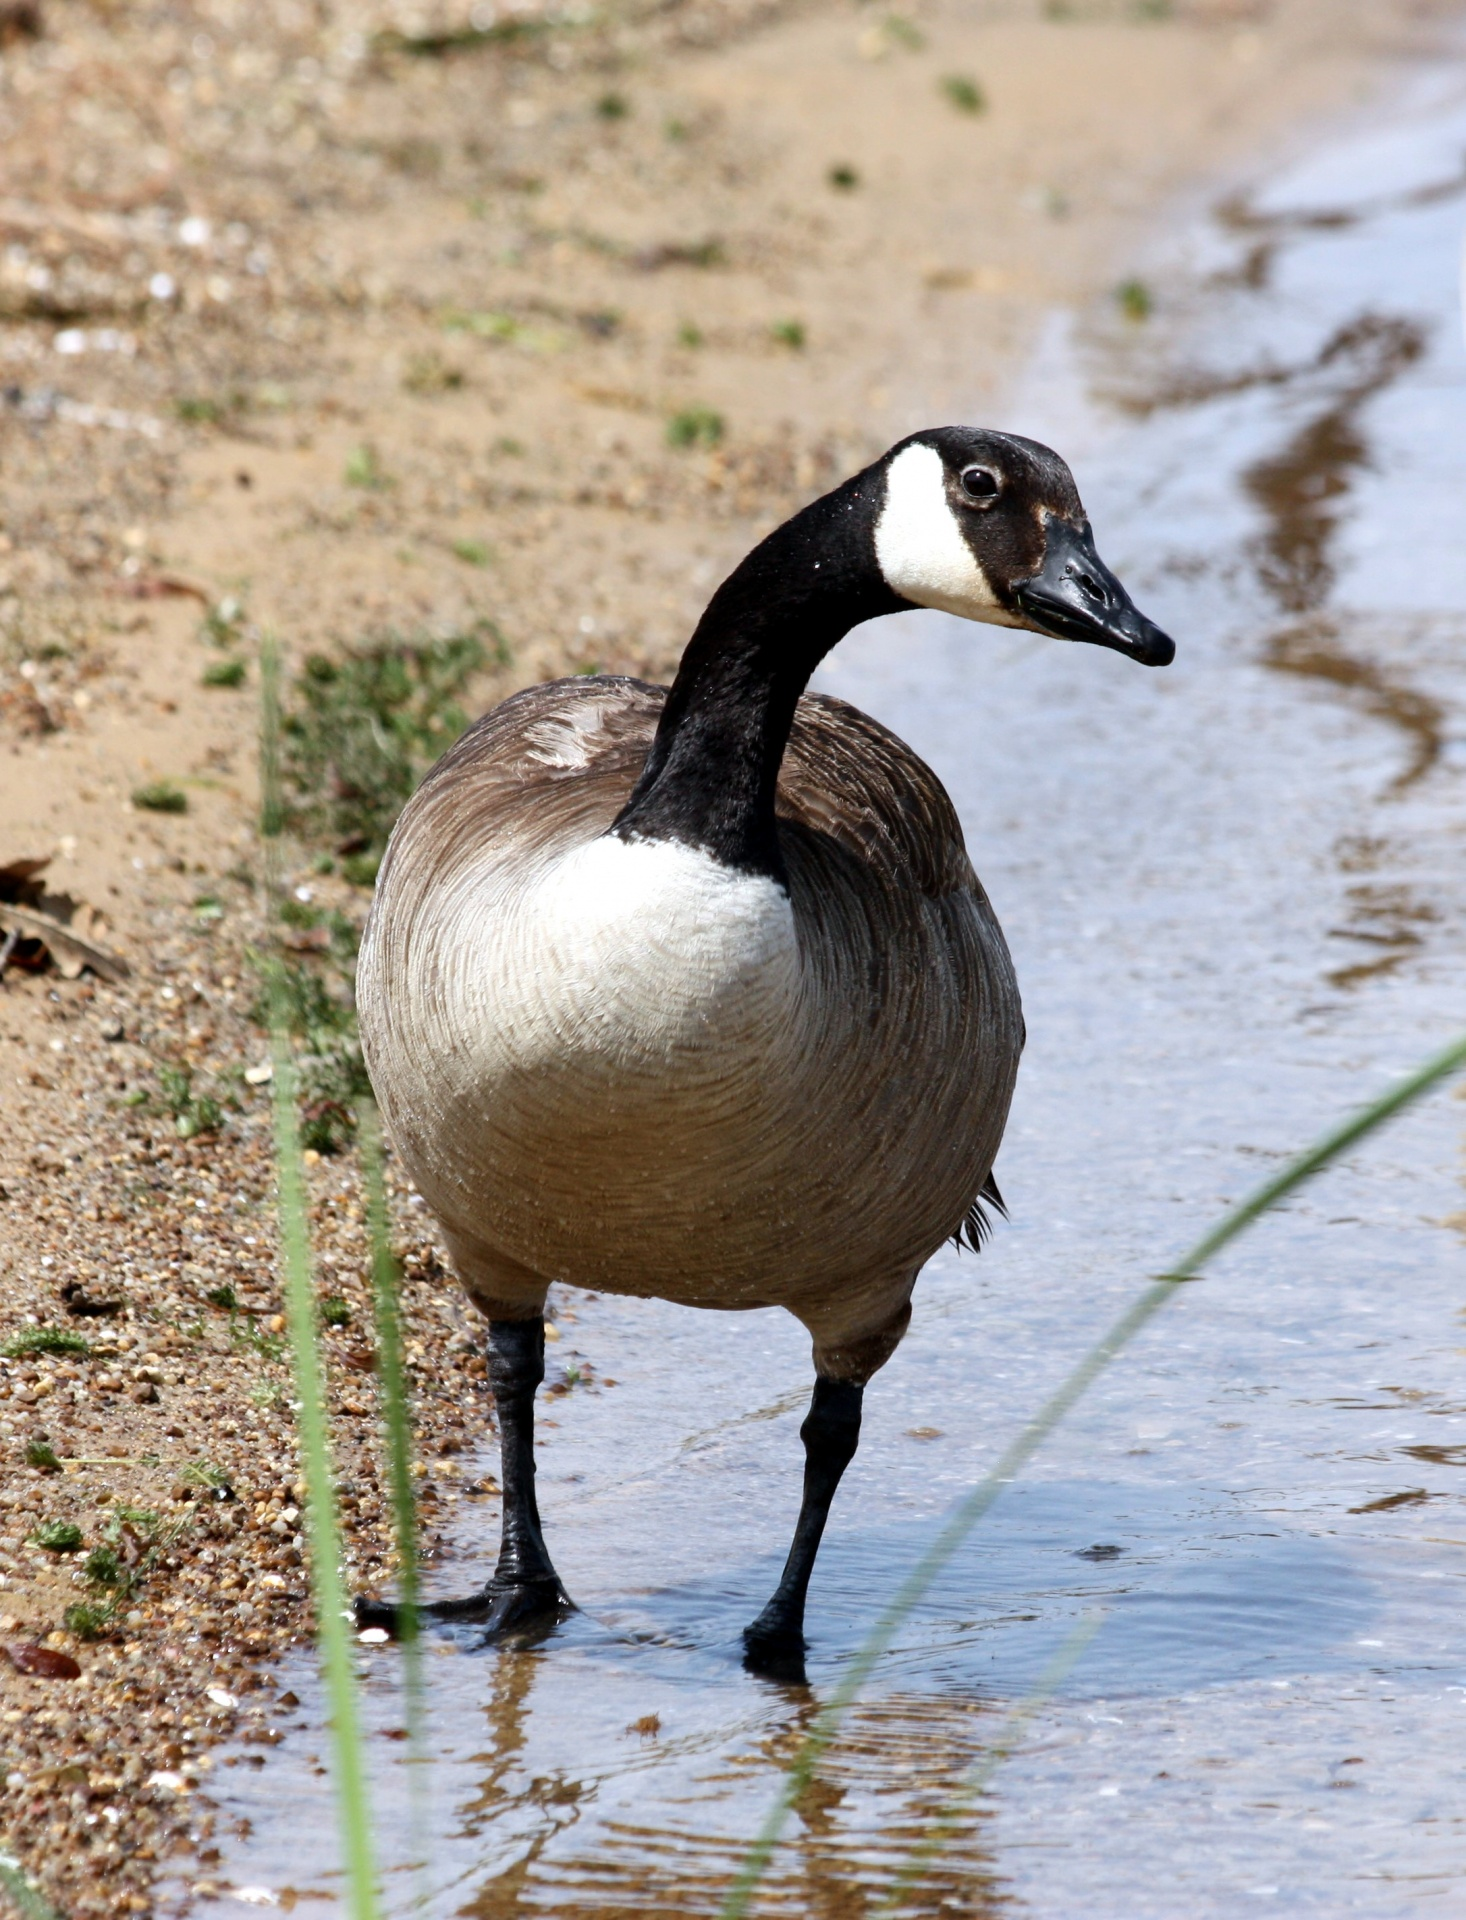goose: (296, 423, 1180, 1711)
